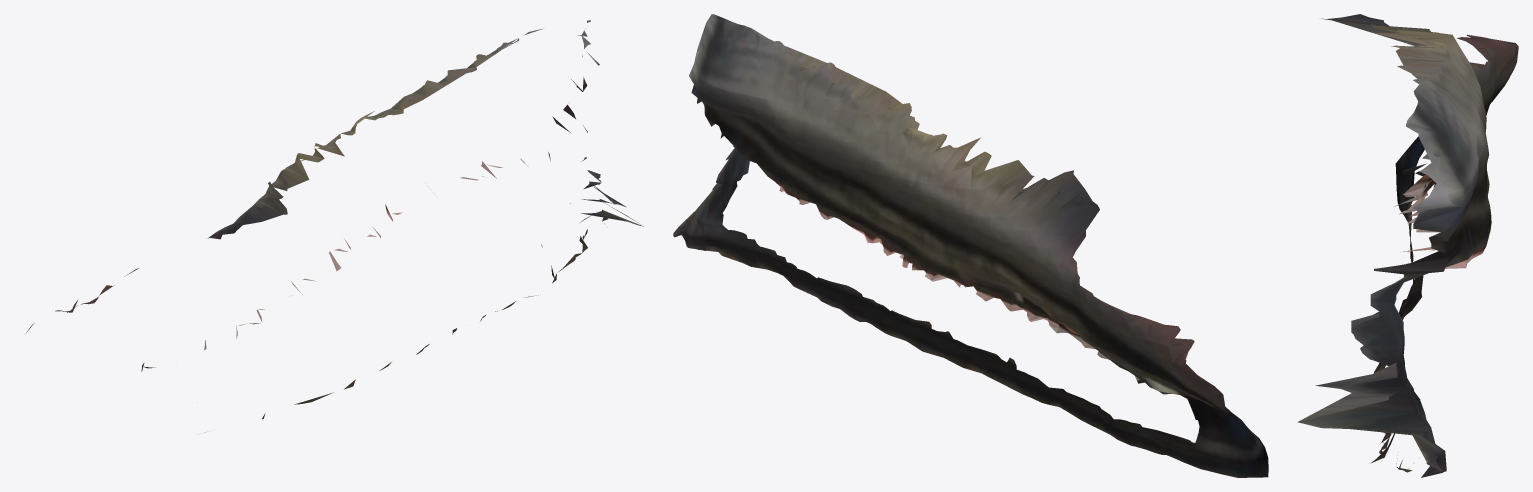
The model's file is observed-surface.glb.
The picture shows the model from 3 angles, left to right: view 1: azimuth 30°, elevation 25°; view 2: azimuth 150°, elevation 25°; view 3: azimuth 270°, elevation 25°; orthographic projection. The views are drawn at different scales.
Parts seen in each view (by area): view 1: geometry_0; view 2: geometry_0; view 3: geometry_0.
Boxes of the visible parts, box(x1,y1,x2,y2) form: geometry_0: box(26, 20, 643, 432); geometry_0: box(673, 14, 1268, 477); geometry_0: box(1297, 14, 1518, 477).
Bounding box in the file's own units: 0.7837 × 0.4313 × 0.1688.
1 material, 1 textured.
